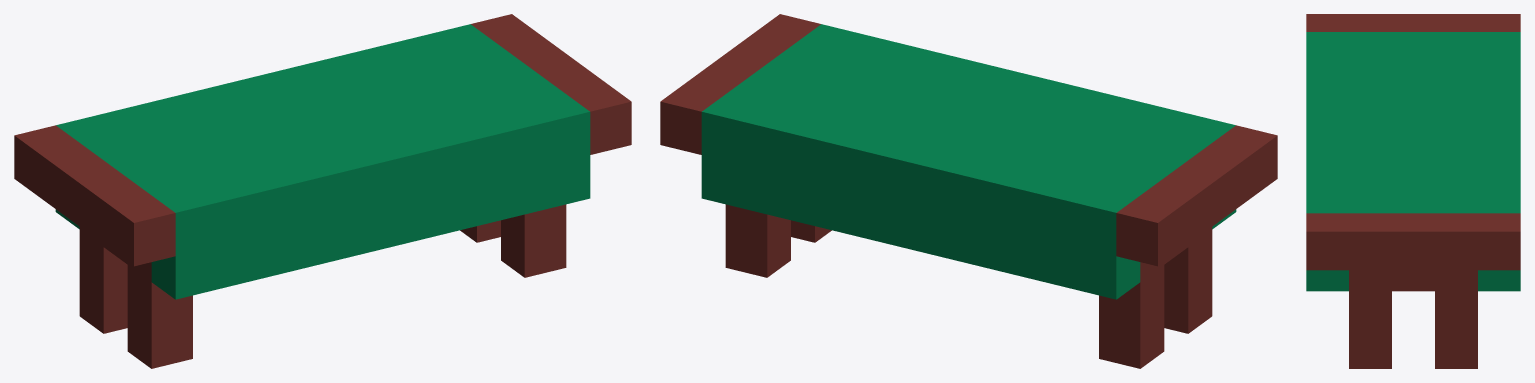
The model's file is large_bench_b_green.obj.
The picture shows the model from 3 angles, left to right: view 1: azimuth 30°, elevation 25°; view 2: azimuth 150°, elevation 25°; view 3: azimuth 270°, elevation 25°; orthographic projection. The views are drawn at different scales.
Bounding box in the file's own units: 1.2 × 0.4 × 0.5.
1 material, 1 textured.
